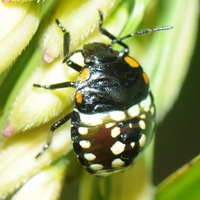insect: (33, 10, 172, 174)
